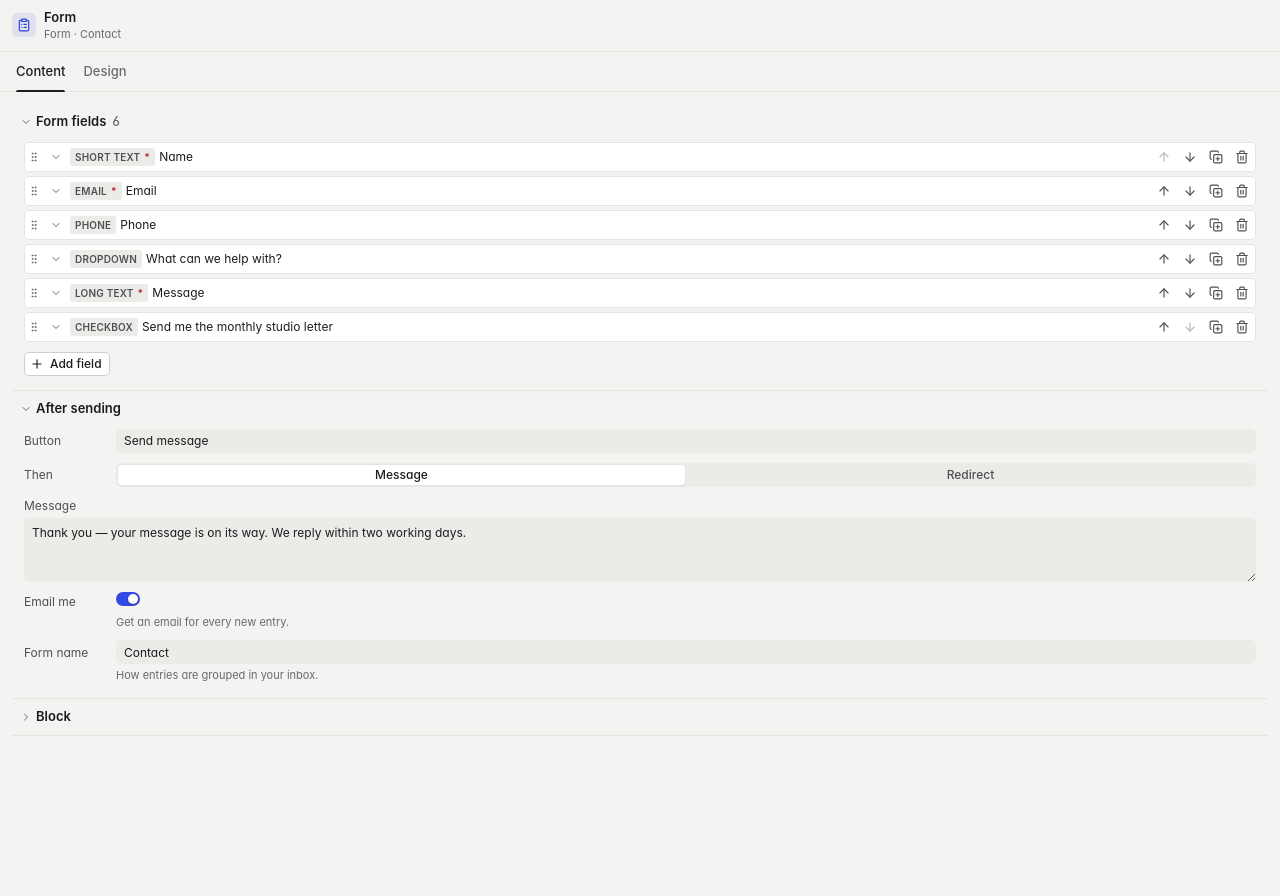
Test: form builder › offers only the allowed field types and refuses password or card fields
The width and height of the screenshot is (1280, 896).
Click the button "Add field" at [67, 364], box top-left (24, 352), bottom-right (110, 376)
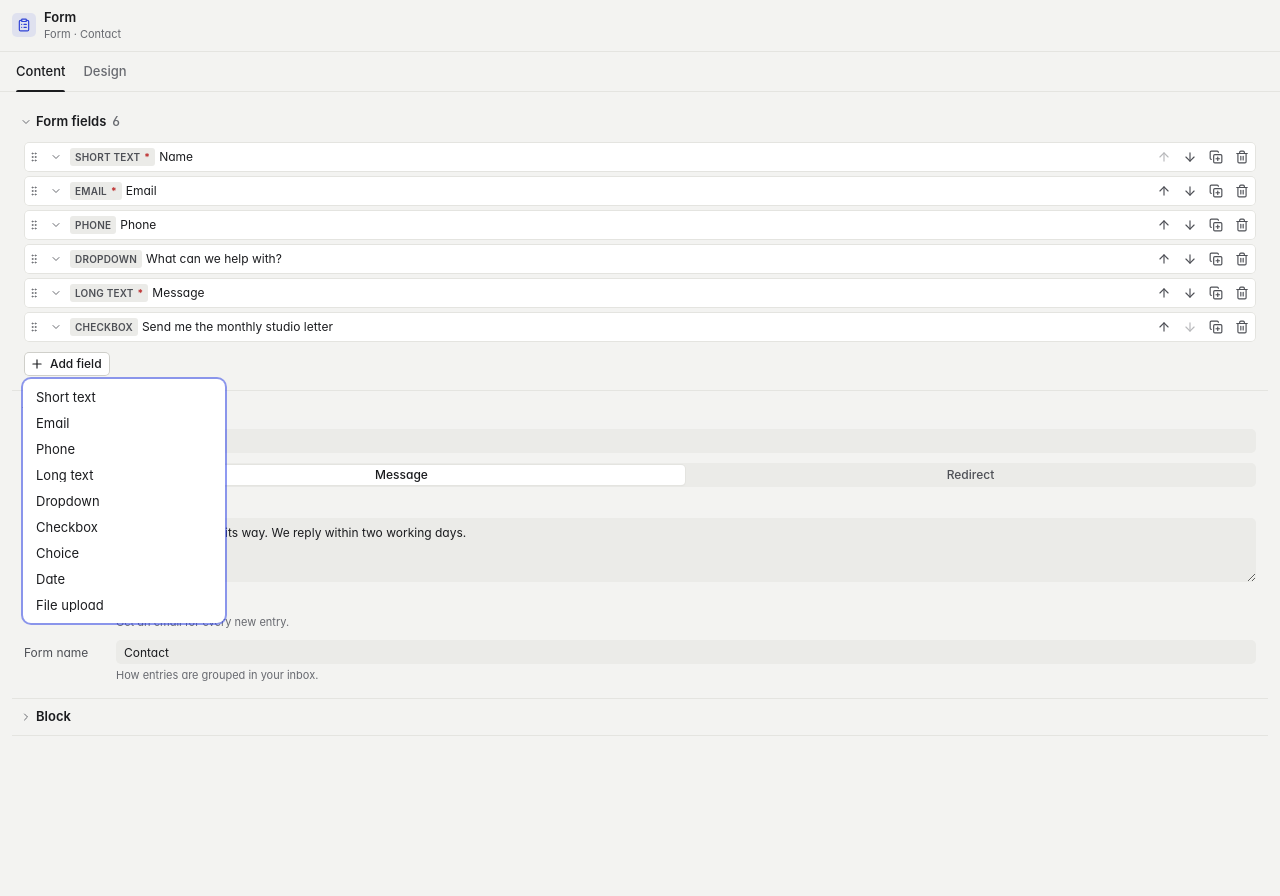
Click the menu item "Date" at [50, 578], box top-left (36, 570), bottom-right (65, 586)
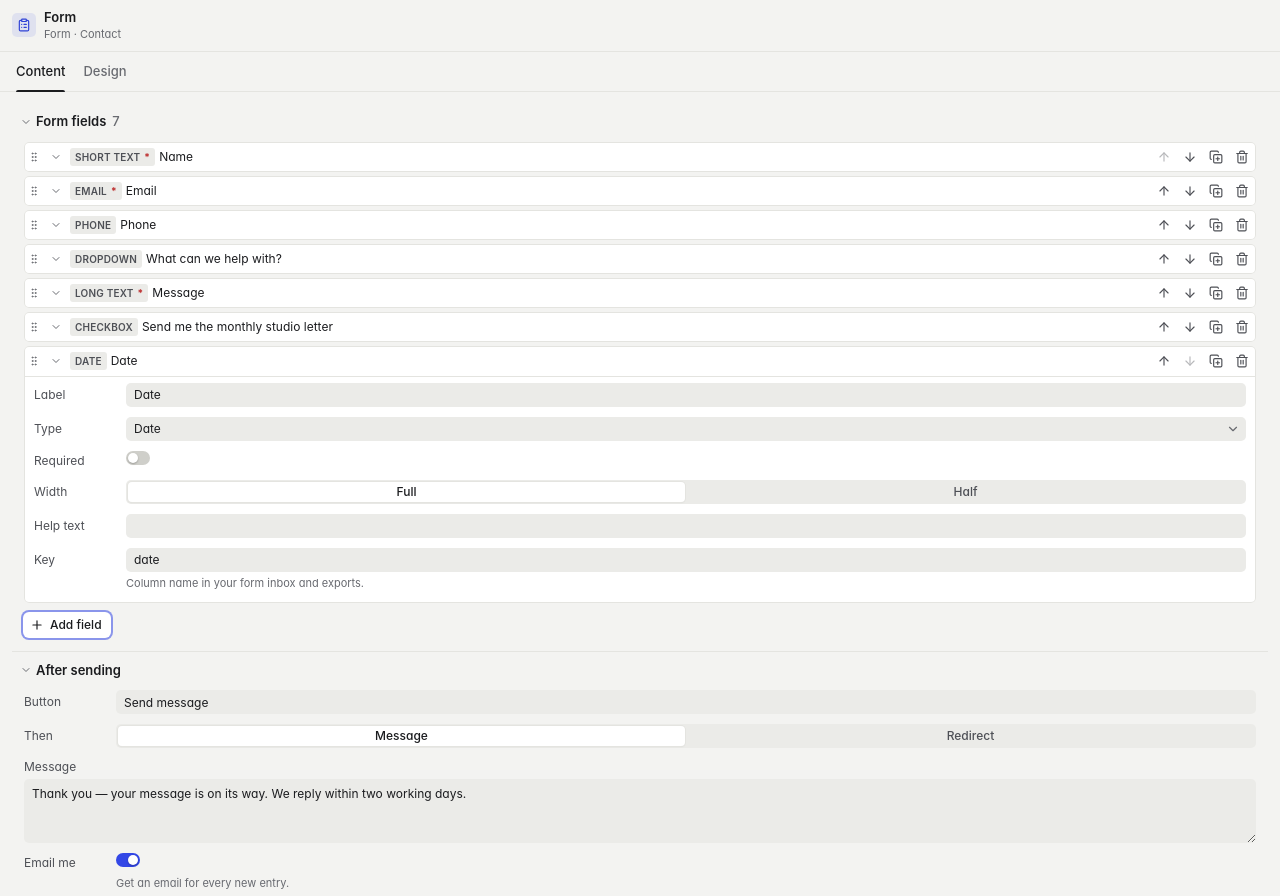
Replace the text in the field named "Field label" with "Card number" at [686, 395], box top-left (126, 383), bottom-right (1246, 407)
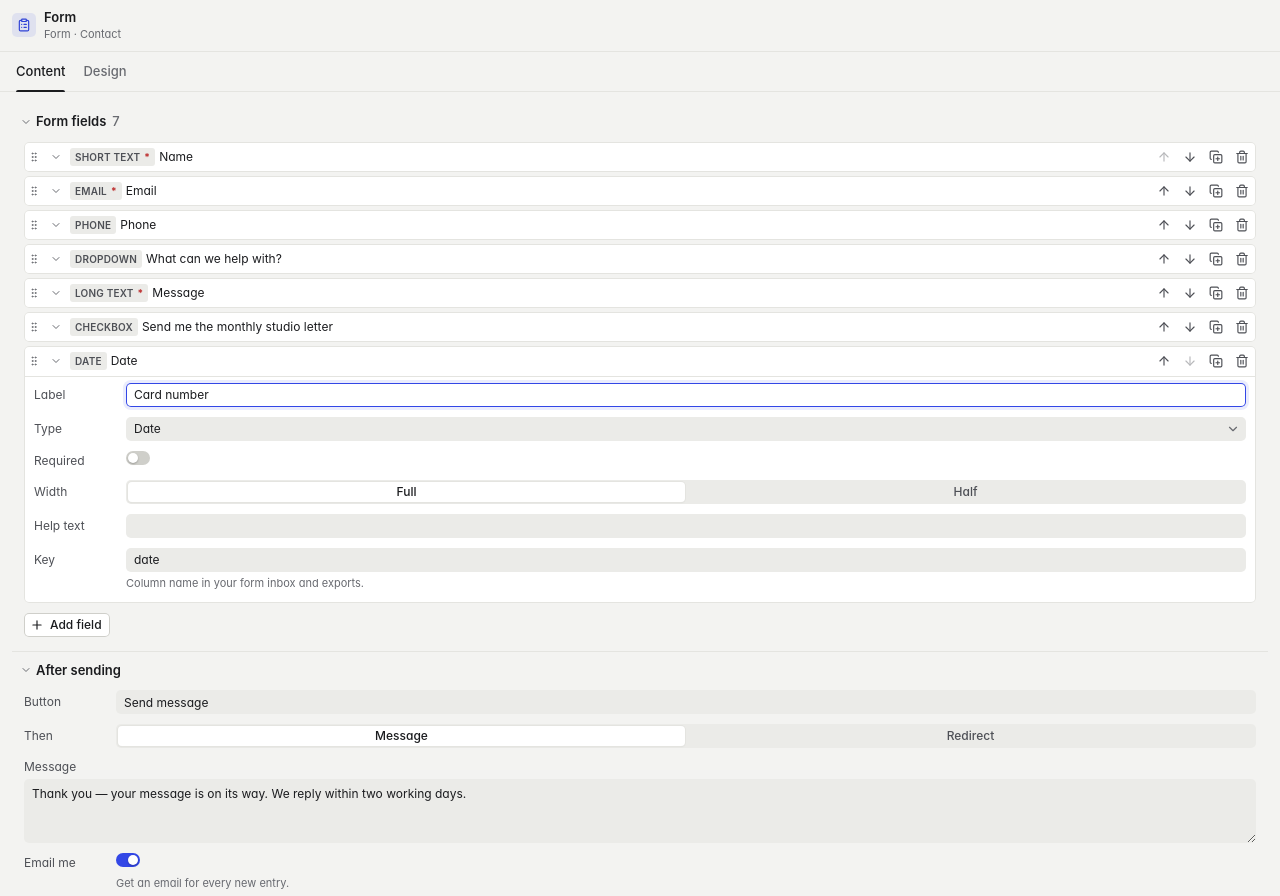
Leave the field named "Field label", box top-left (126, 383), bottom-right (1246, 407)
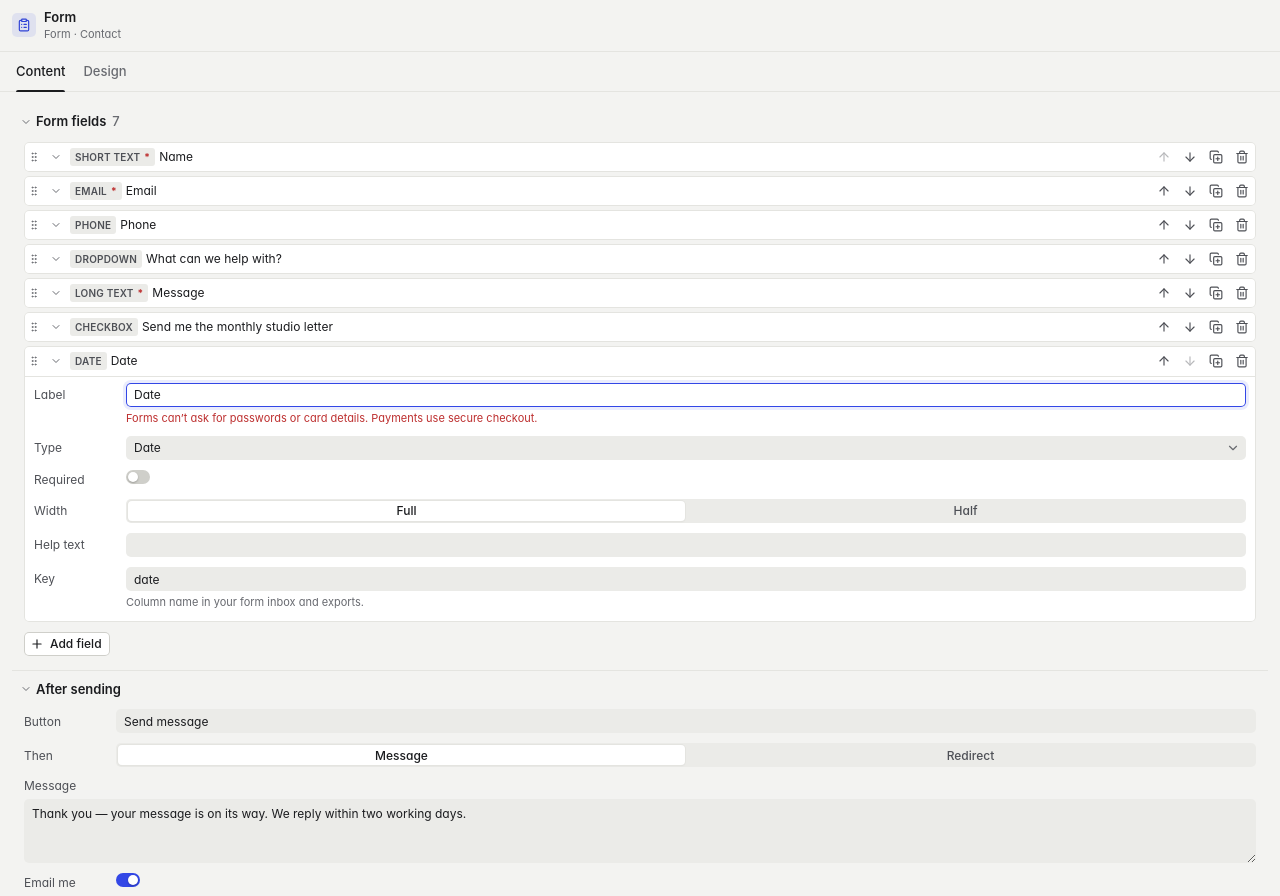
Now the text "Forms can’t ask for passwords or card details. Payments use secure checkout." is shown, box top-left (126, 411), bottom-right (538, 425)
